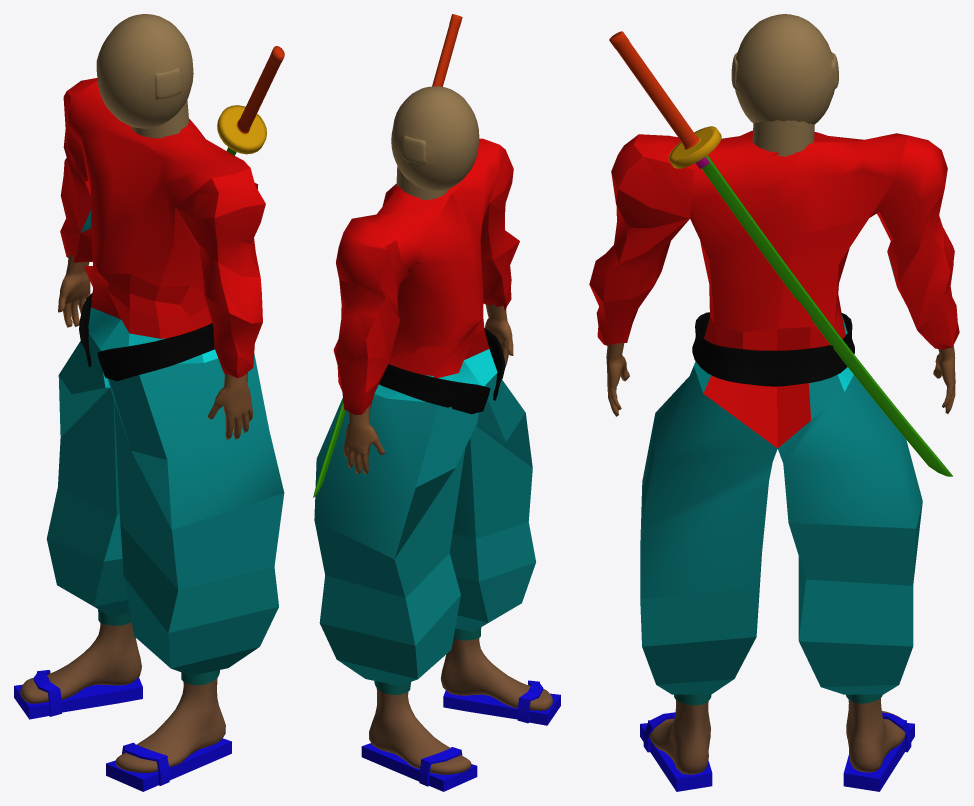
The model's file is 3D Platformer Character FBX - Orlando Roddy.fbx.
3 renders of one model, left to right at view 1: azimuth 30°, elevation 25°; view 2: azimuth 150°, elevation 25°; view 3: azimuth 270°, elevation 25°, orthographic. The views are drawn at different scales.
Visible parts, largest first — view 1: polySurface25; view 2: polySurface25; view 3: polySurface25.
Boxes of the visible parts, x1,y1,x2,y2 form: polySurface25: [14, 14, 284, 791]; polySurface25: [313, 14, 560, 791]; polySurface25: [589, 14, 959, 791].
Bounding box in the file's own units: 1.84 × 7.74 × 3.37.
